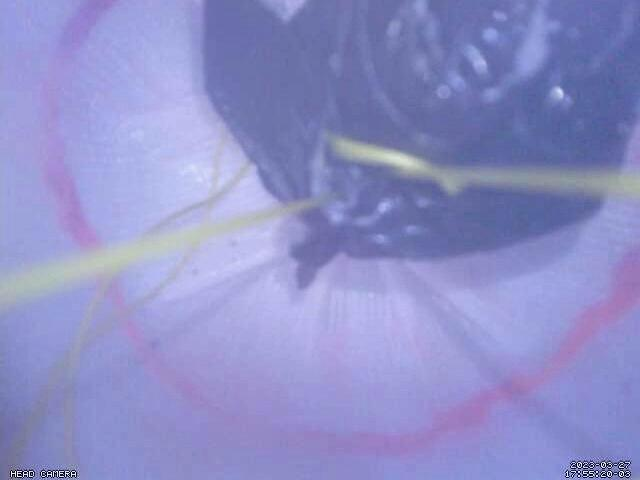head: (34, 0, 640, 457)
